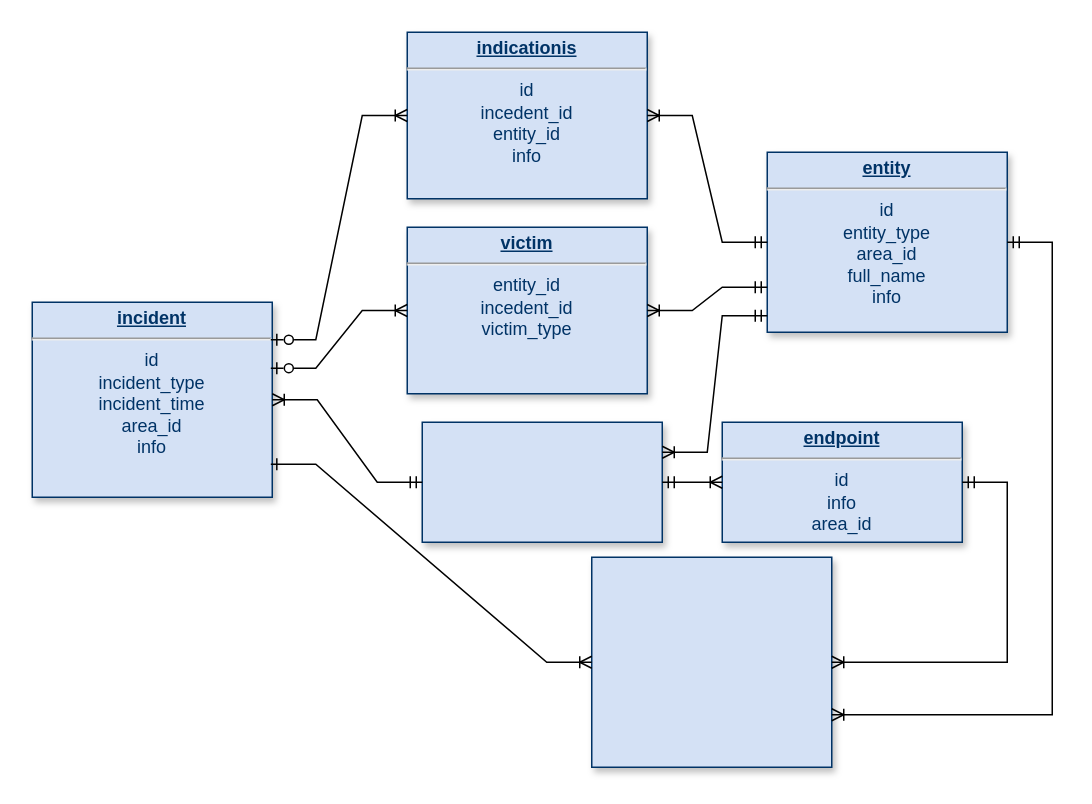
The diagram is 1092 pixels wide and 804 high, and some of its shapes have lost their labels. The centre of each missing label's shape, as x and y in pixels:
area id position info: the point at 543,484
report id from_id to_id entity_id arrive_date content incedent_id: the point at 712,664
